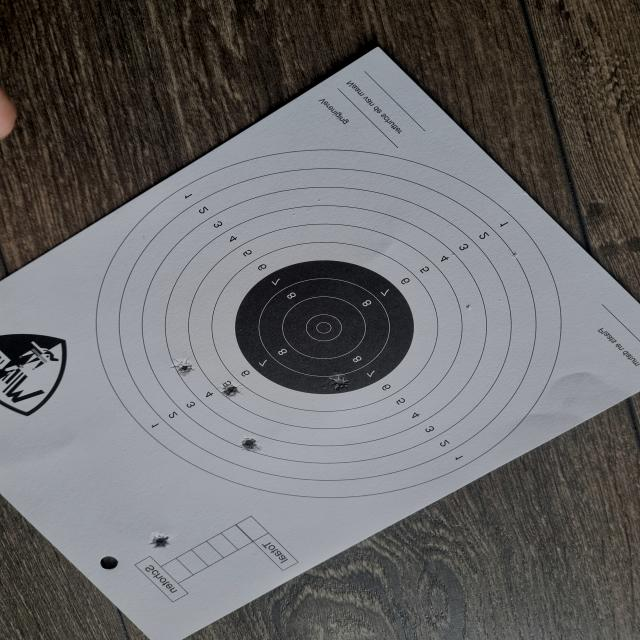0: (150, 536, 170, 548)
3: (240, 438, 260, 451)
4: (170, 359, 195, 375)
5: (220, 384, 242, 397)
8: (328, 372, 351, 390)
Target: (94, 150, 566, 498)
black_contour: (237, 261, 415, 395)
